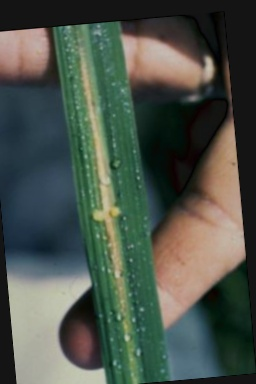Leaf_Blast: (85, 31, 129, 364)
